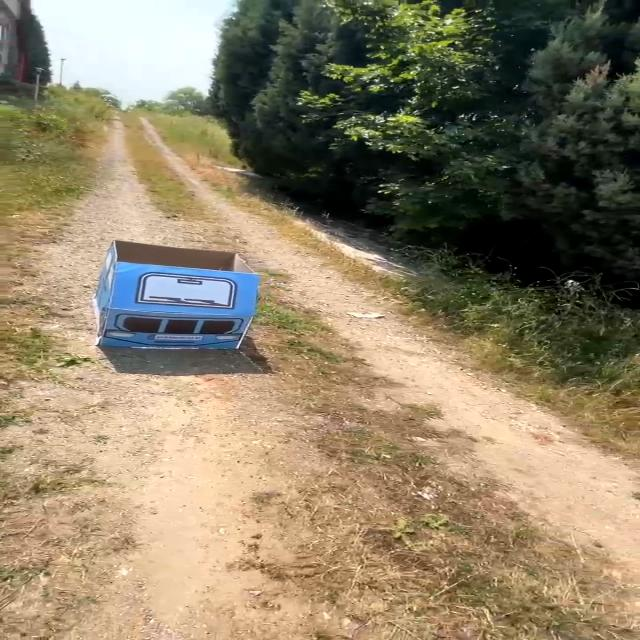blue_car: (77, 234, 277, 365)
